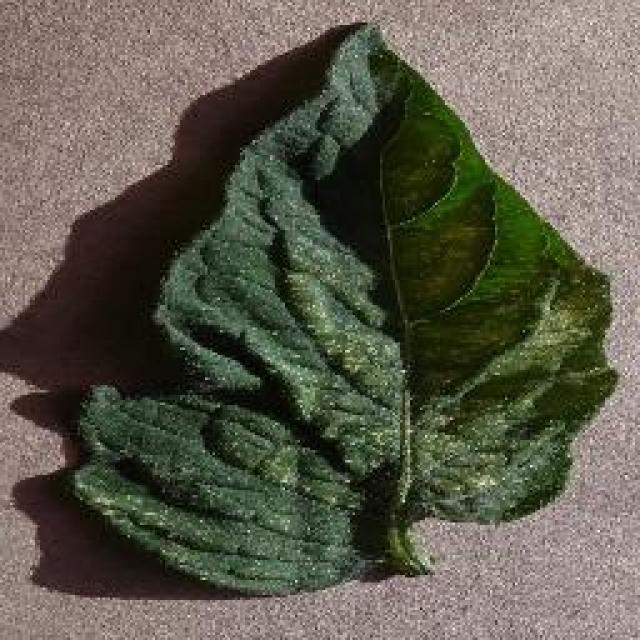Tomato mosaic virus leaf: (71, 24, 616, 598)
